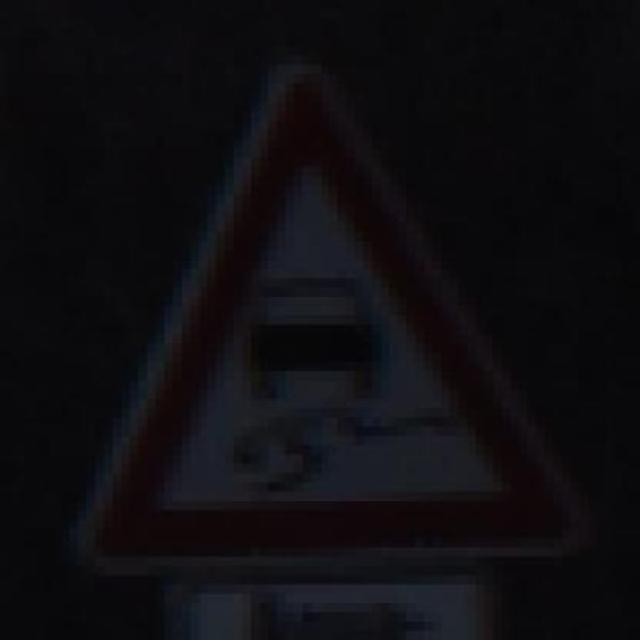Slippery Road Ahead: (60, 56, 597, 576)
